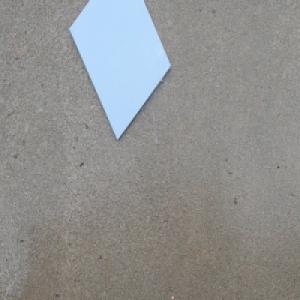PaintChip: (68, 0, 172, 143)
